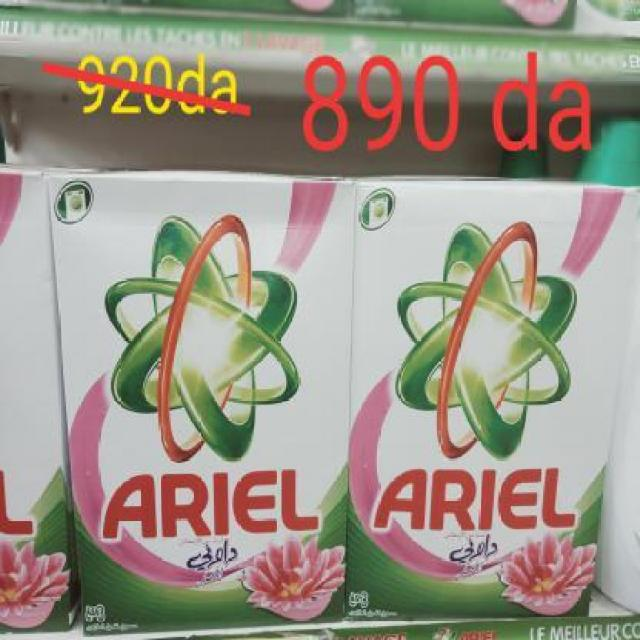Detergent: (46, 173, 352, 622), (349, 177, 489, 625)
